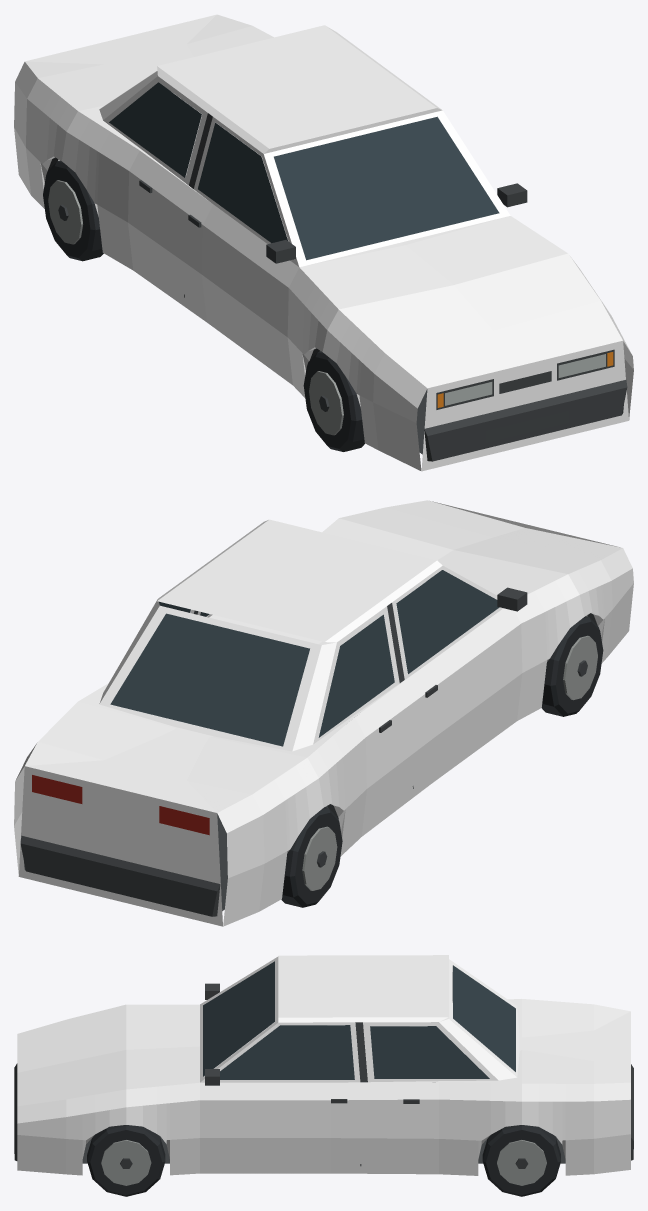
File: kanaya_kazane_s_ii.glb
The picture shows the model from 3 angles, top to bottom: view 1: azimuth 30°, elevation 25°; view 2: azimuth 150°, elevation 25°; view 3: azimuth 270°, elevation 25°; orthographic projection. The views are drawn at different scales.
Parts seen in each view (by area): view 1: kanaya_kazane_s_ii; view 2: kanaya_kazane_s_ii; view 3: kanaya_kazane_s_ii.
Part boxes in pixels (box(x1,y1,x2,y2)): kanaya_kazane_s_ii: box(14, 14, 633, 471); kanaya_kazane_s_ii: box(14, 500, 633, 926); kanaya_kazane_s_ii: box(14, 955, 633, 1196).
Size of the model in its own units: 1.83 by 1.46 by 4.95.
8 materials, 1 textured.
